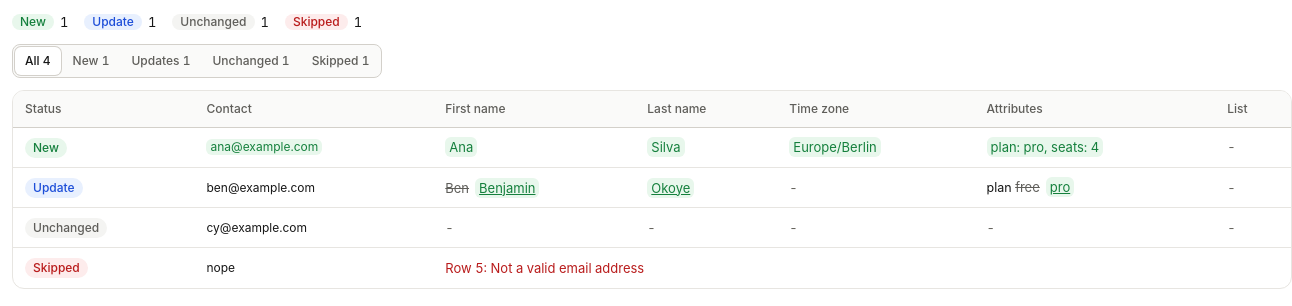
skipped rows › show the address and why, across the other columns, in the error colour
The image size is (1292, 306).
Click the radio button labelled "Skipped 1" at (340,61), box [302,47,379,75]
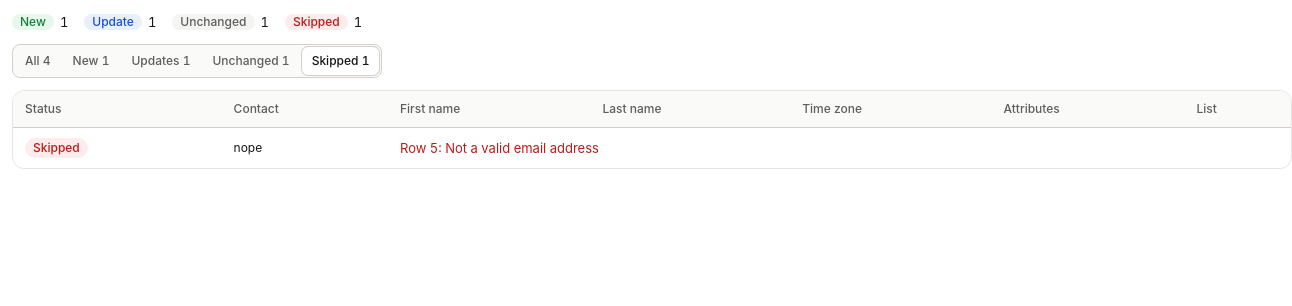
Now the cells read "Skipped", "nope", "Row 5: Not a valid email address", in this order, box [13,128,222,168]; [222,128,388,168]; [388,128,1291,168]
